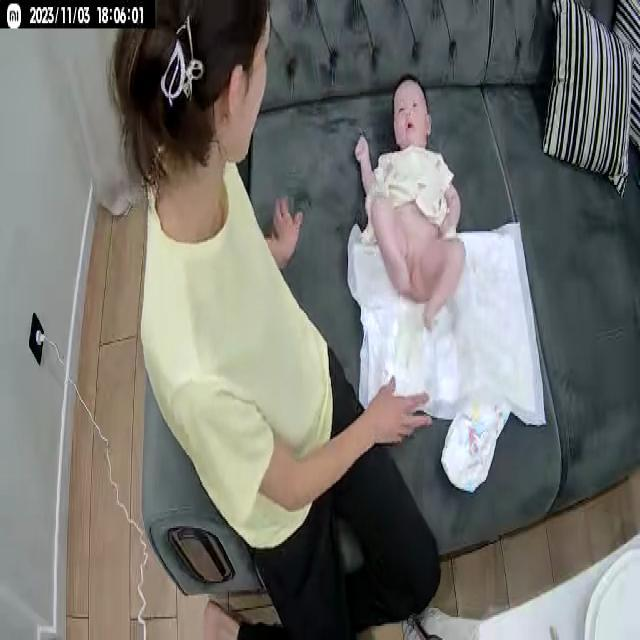baby: (349, 70, 476, 342)
